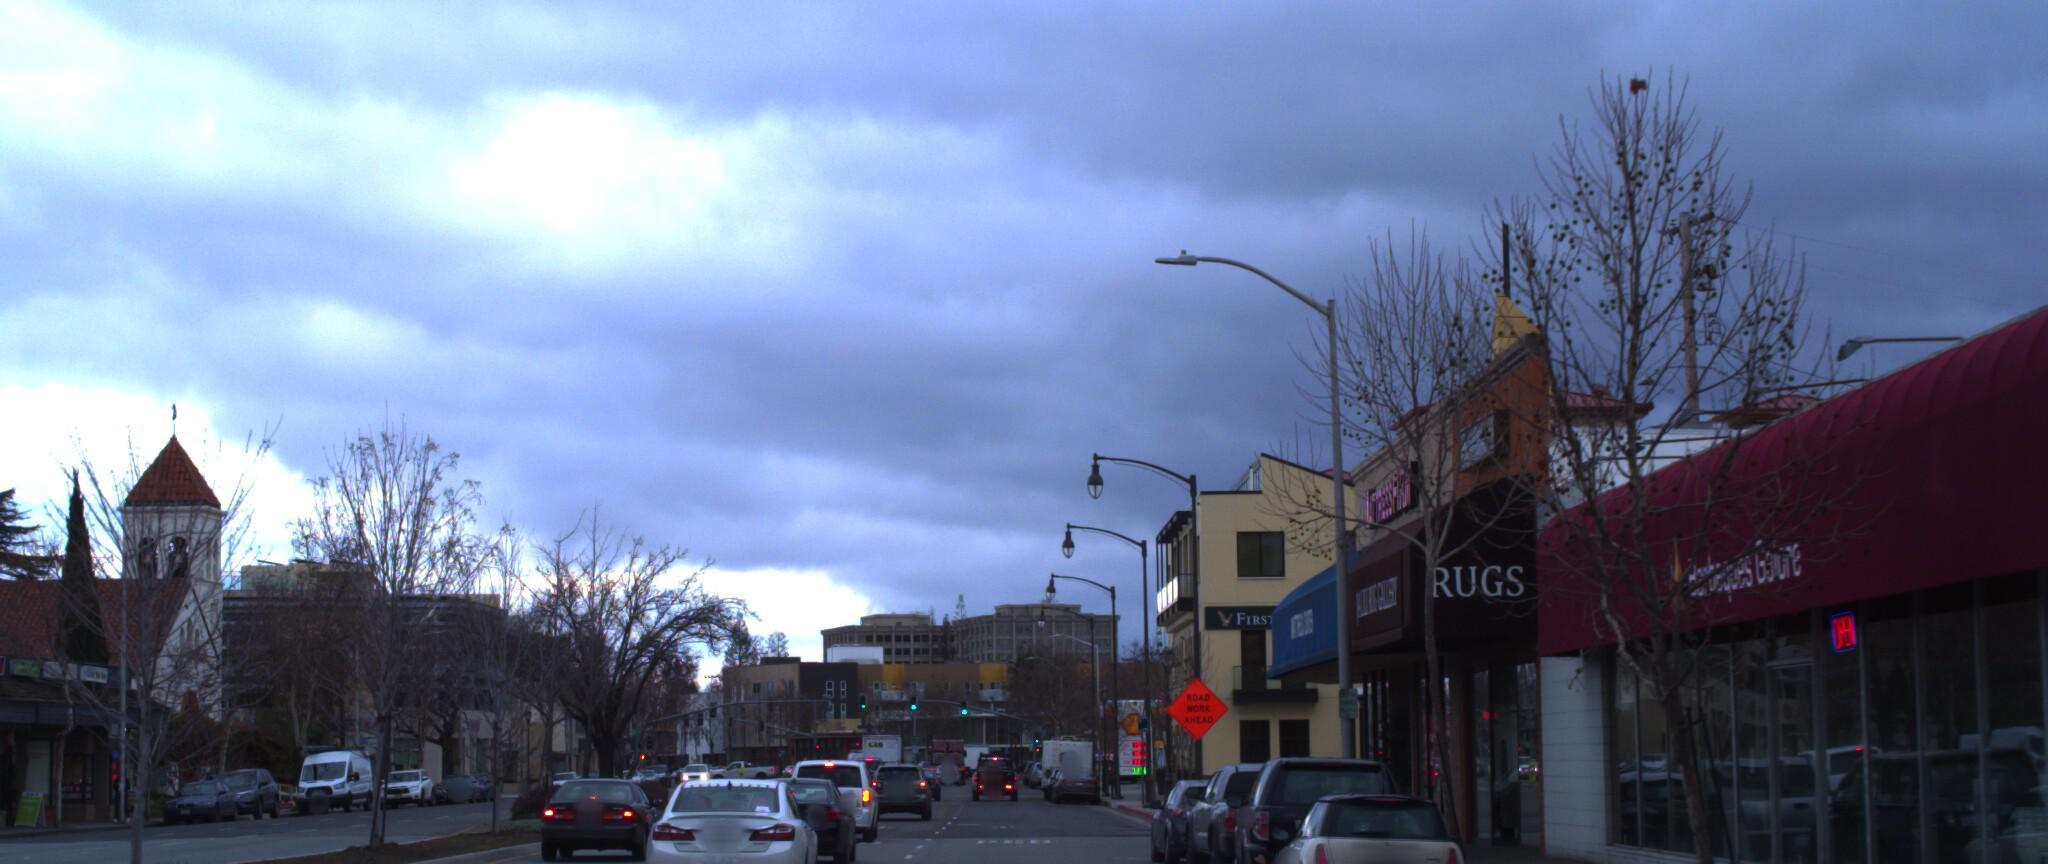car: (1203, 760, 1392, 864), (639, 767, 820, 864), (1243, 784, 1459, 864), (1177, 762, 1332, 864), (728, 752, 849, 850), (526, 767, 658, 852), (793, 750, 882, 825)
